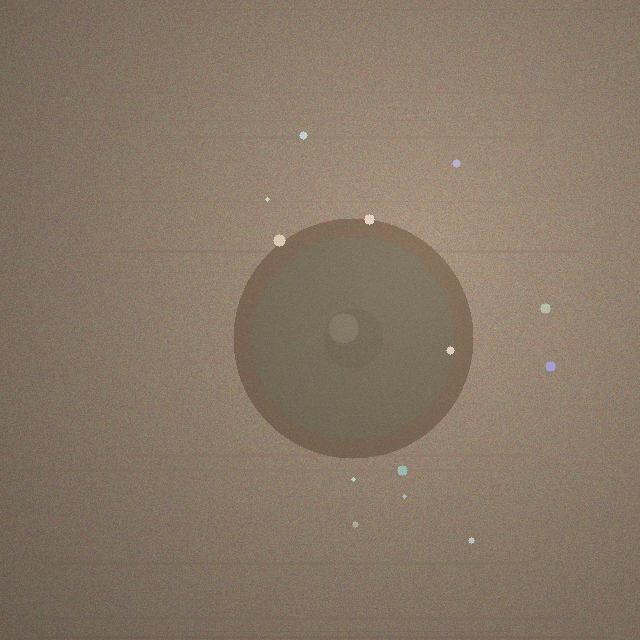overburn: (233, 218, 473, 458)
